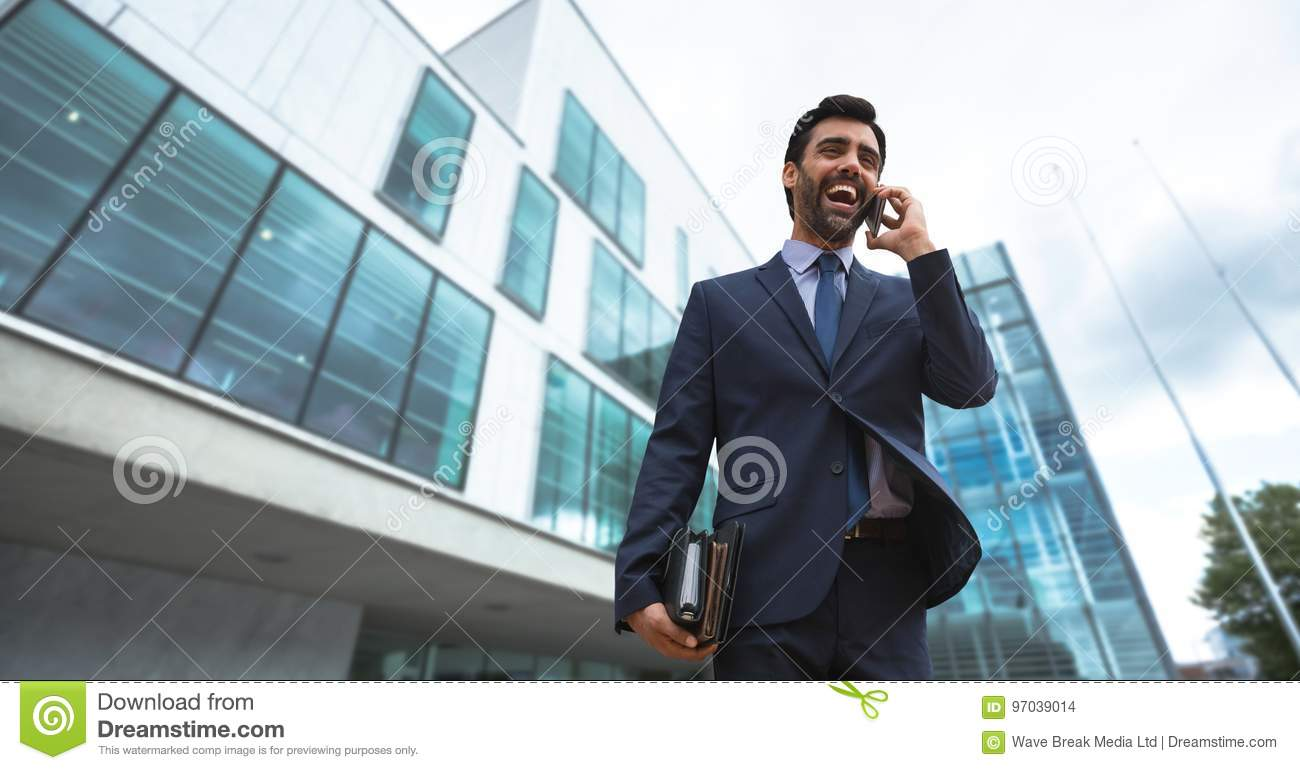phone: (866, 185, 887, 238)
talk: (807, 131, 929, 263)
